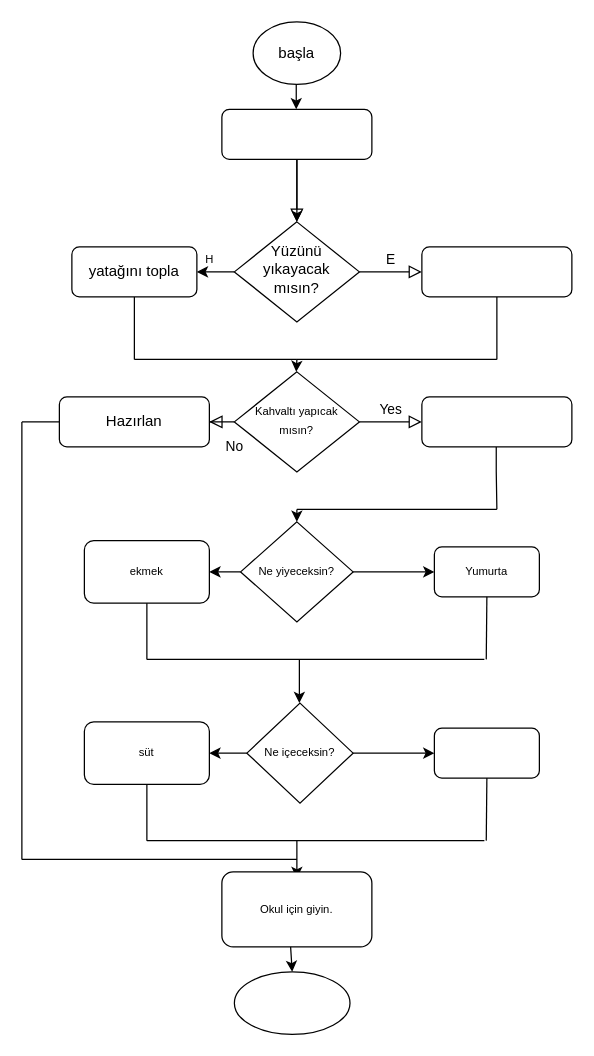
The diagram is 594 pixels wide and 1056 high, and some of its shapes have lost their labels. The shapes that lost their labels are listed below. From the top down, each one's centre as x and y in pixels, then its label:
(296,133): kalk
(496,271): yüzünü yıka
(496,421): Mutfağa git
(486,752): çay
(291,1002): bitir
